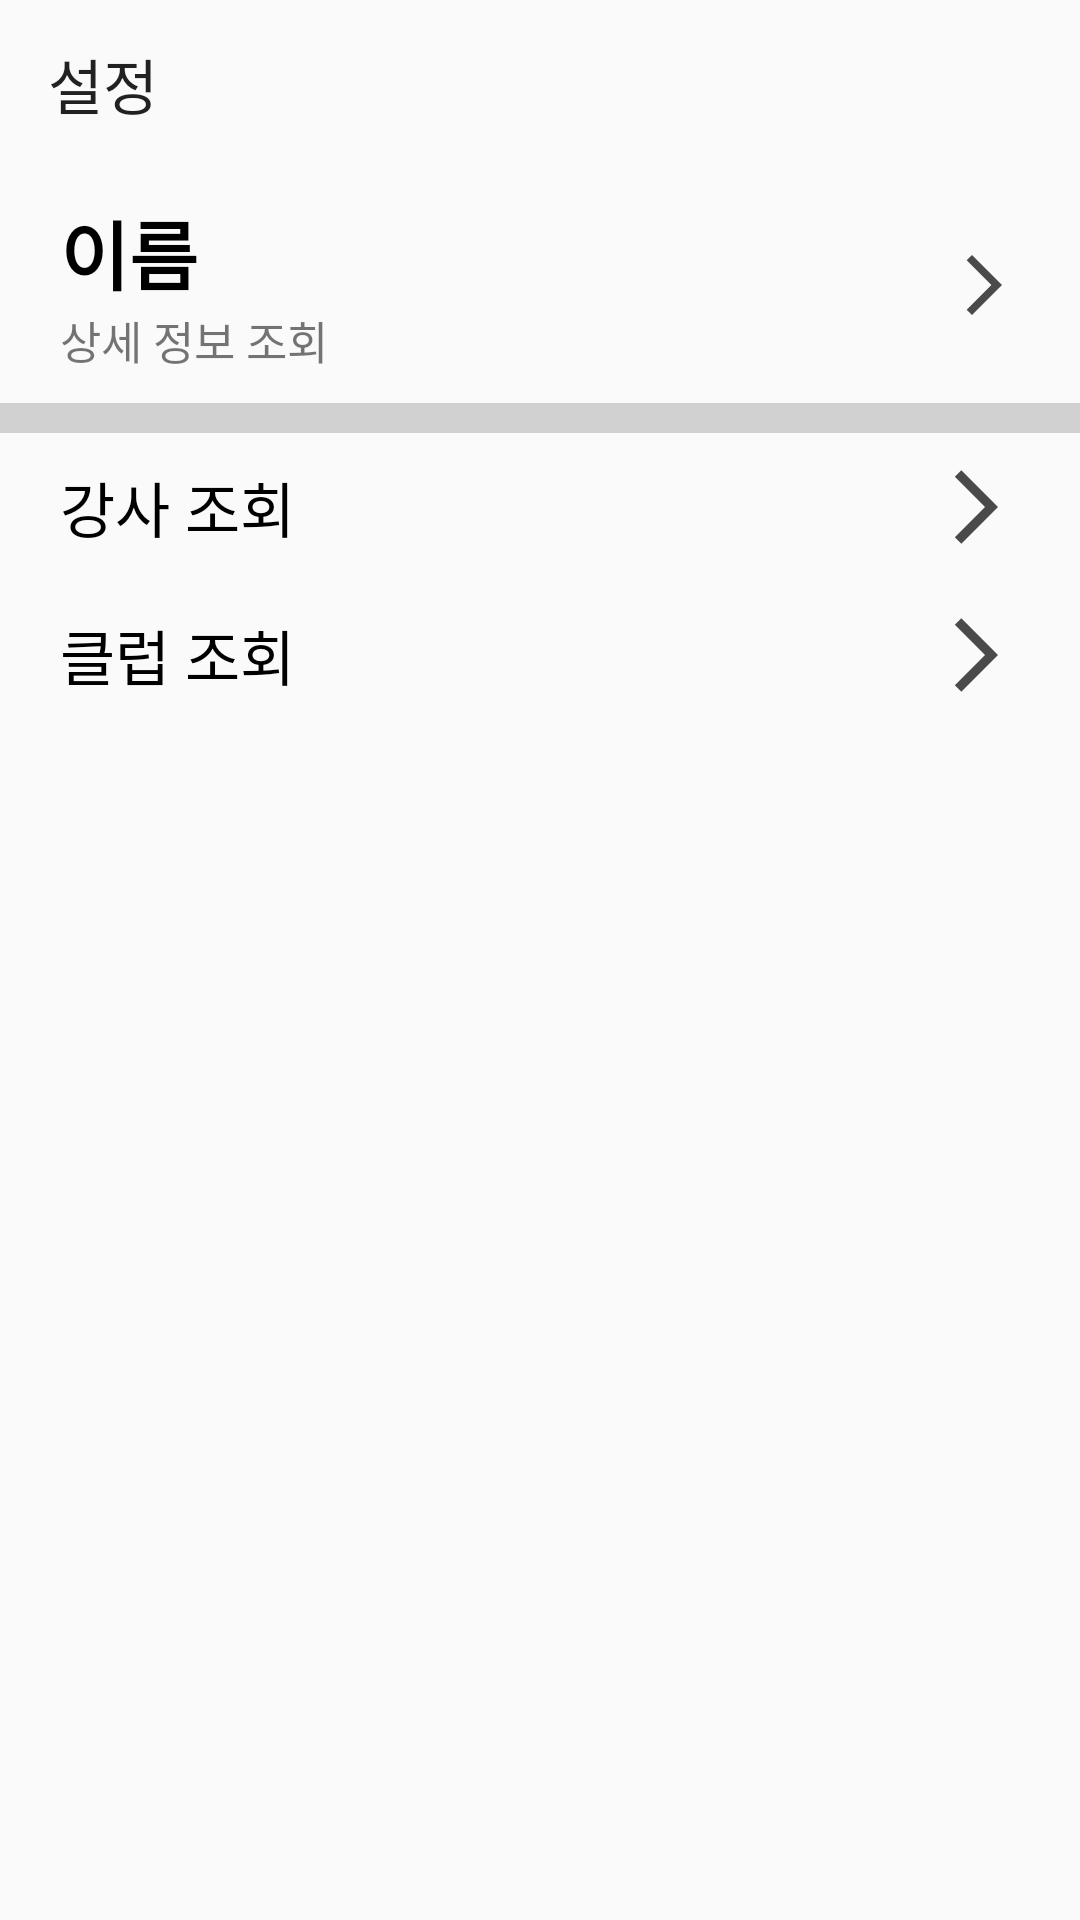

Icons on this 1080 × 1920 Android screen, each with the point to tap as (x,y):
arrow: (984,285), (976,507), (976,655)
